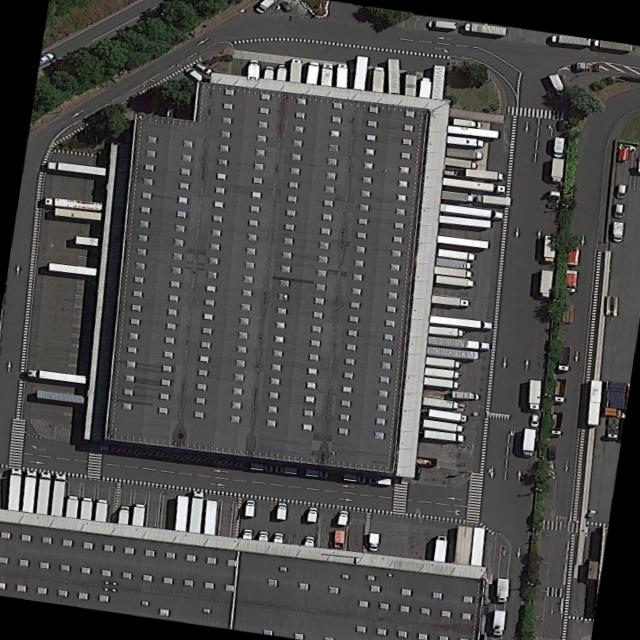large-vehicle: (429, 314, 494, 330), (440, 203, 504, 219), (443, 177, 506, 193), (28, 368, 87, 383), (47, 160, 106, 175), (428, 336, 491, 350), (45, 196, 103, 210), (564, 245, 580, 294), (22, 469, 38, 512), (189, 490, 205, 533), (37, 471, 52, 514), (51, 473, 66, 516), (428, 407, 468, 423), (8, 467, 22, 510), (423, 418, 465, 432), (465, 22, 507, 35), (431, 294, 470, 307), (436, 274, 475, 287), (424, 429, 465, 441), (424, 376, 461, 389), (424, 366, 461, 379), (423, 396, 459, 409), (552, 34, 591, 46), (594, 39, 633, 51), (437, 248, 476, 260), (466, 168, 505, 180), (428, 325, 466, 337), (435, 265, 473, 277), (426, 356, 463, 368), (436, 257, 473, 269), (539, 269, 554, 298), (529, 379, 542, 411), (447, 135, 484, 146), (522, 427, 536, 456), (441, 189, 474, 201), (445, 156, 478, 168), (447, 147, 483, 158), (434, 534, 448, 562), (476, 194, 511, 205), (549, 73, 567, 94), (544, 234, 557, 263), (492, 609, 506, 635), (557, 345, 571, 371), (551, 410, 564, 436), (554, 377, 567, 403), (95, 497, 109, 521), (132, 502, 146, 526), (306, 60, 320, 84), (497, 577, 510, 602), (290, 57, 303, 82), (551, 157, 564, 182), (66, 494, 80, 517), (80, 496, 94, 519), (373, 66, 385, 92), (405, 70, 417, 96), (336, 62, 348, 88), (255, 0, 278, 13), (428, 19, 457, 29), (321, 62, 333, 86), (453, 117, 481, 127), (419, 76, 432, 97), (453, 390, 480, 400), (343, 472, 368, 482), (248, 59, 261, 78), (368, 475, 392, 485), (548, 190, 561, 208), (613, 220, 624, 241), (554, 136, 565, 157), (118, 505, 130, 524), (369, 532, 380, 551), (337, 509, 350, 525), (306, 468, 329, 477), (251, 462, 274, 471), (276, 63, 288, 80), (275, 465, 297, 474), (307, 506, 319, 522), (245, 499, 256, 516), (277, 502, 288, 519), (264, 65, 275, 79), (243, 527, 253, 539), (259, 530, 269, 541), (274, 531, 284, 542), (305, 535, 315, 546)
small-vehicle: (185, 66, 208, 82), (193, 61, 216, 75), (611, 203, 626, 217), (615, 183, 629, 198), (528, 413, 539, 426), (281, 0, 293, 11), (546, 446, 556, 459), (557, 119, 566, 133)
